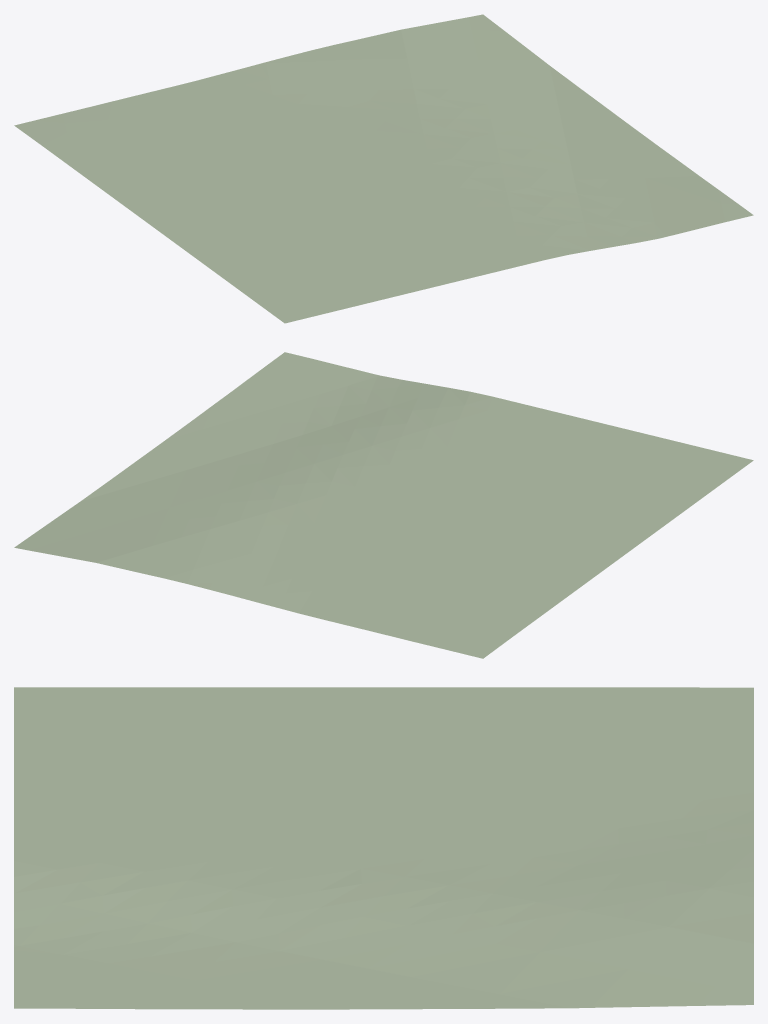
File: SM_MPRR_Terrain_1_0.fbx
3 renders of one model, top to bottom at view 1: azimuth 30°, elevation 25°; view 2: azimuth 150°, elevation 25°; view 3: azimuth 270°, elevation 25°, orthographic. The views are drawn at different scales.
Parts seen in each view (by area): view 1: SM_MPRR_Terrain_1_0; view 2: SM_MPRR_Terrain_1_0; view 3: SM_MPRR_Terrain_1_0.
Part boxes in pixels (x1,y1,x2,y2): SM_MPRR_Terrain_1_0: (14, 14, 753, 323); SM_MPRR_Terrain_1_0: (14, 352, 753, 658); SM_MPRR_Terrain_1_0: (14, 687, 753, 1009).
Size of the model in its own units: 15000 by 15000 by 286.
